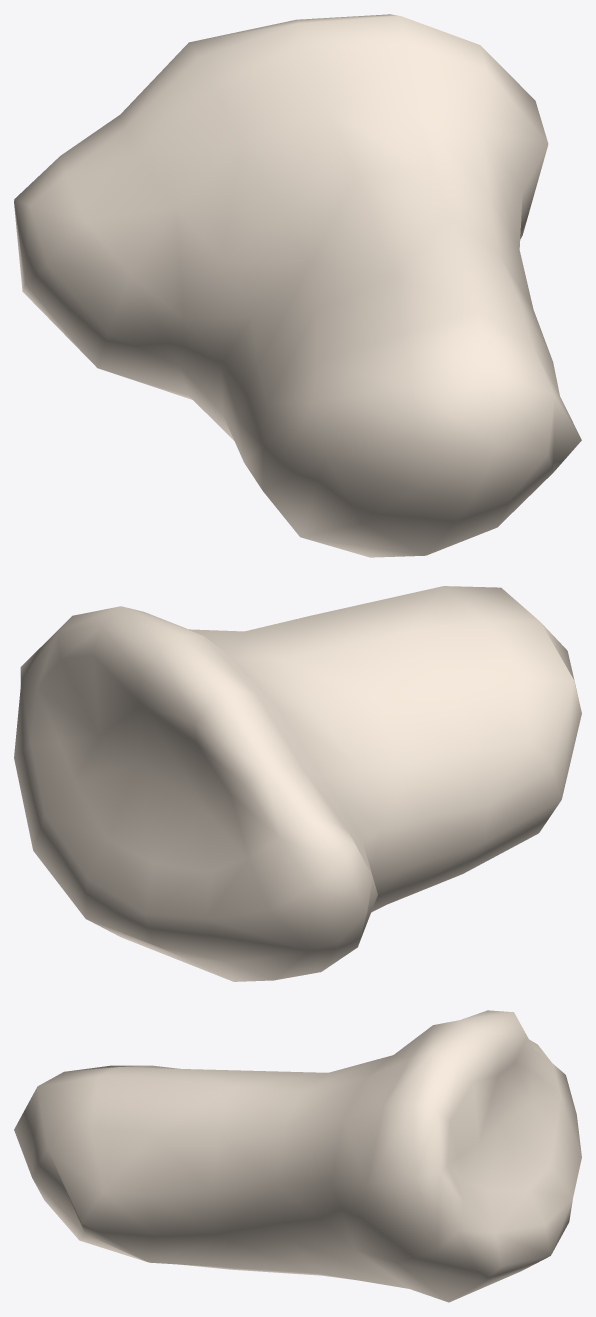
The model's file is right_toe_3_distal.glb.
3 views of the same model, one above another, from view 1: azimuth 30°, elevation 25°; view 2: azimuth 150°, elevation 25°; view 3: azimuth 270°, elevation 25° (orthographic). The views are drawn at different scales.
Visible parts, largest first — view 1: Distal phalanx of third finger of foot.r; view 2: Distal phalanx of third finger of foot.r; view 3: Distal phalanx of third finger of foot.r.
Part boxes in pixels (x1=…): Distal phalanx of third finger of foot.r: x1=14, y1=14, x2=581, y2=557; Distal phalanx of third finger of foot.r: x1=14, y1=586, x2=581, y2=981; Distal phalanx of third finger of foot.r: x1=14, y1=1010, x2=581, y2=1302.
Size of the model in its own units: 0.00798 by 0.00601 by 0.0114.
